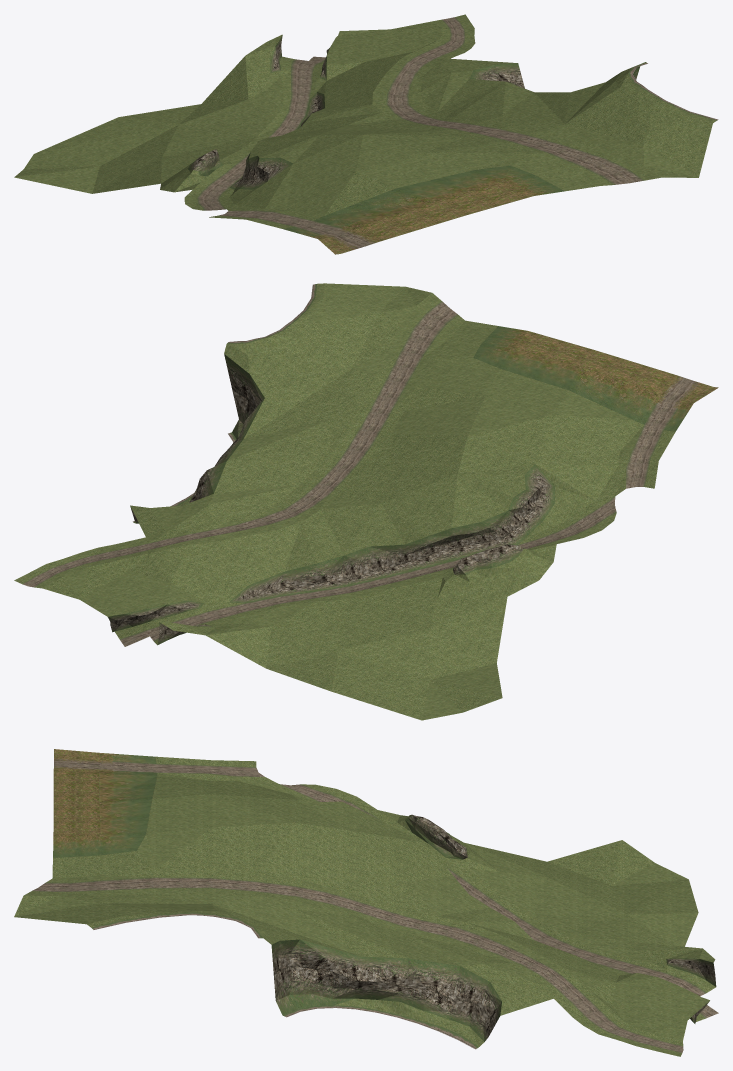
The model's file is ce_ground06.obj.
The picture shows the model from 3 angles, top to bottom: view 1: azimuth 30°, elevation 25°; view 2: azimuth 150°, elevation 25°; view 3: azimuth 270°, elevation 25°; orthographic projection. The views are drawn at different scales.
Parts seen in each view (by area): view 1: CE_ground06; view 2: CE_ground06; view 3: CE_ground06.
Boxes of the visible parts, x1=… form: CE_ground06: x1=14, y1=14, x2=718, y2=254; CE_ground06: x1=14, y1=283, x2=718, y2=720; CE_ground06: x1=14, y1=749, x2=718, y2=1056.
Bounding box in the file's own units: 217 × 64.41 × 265.
